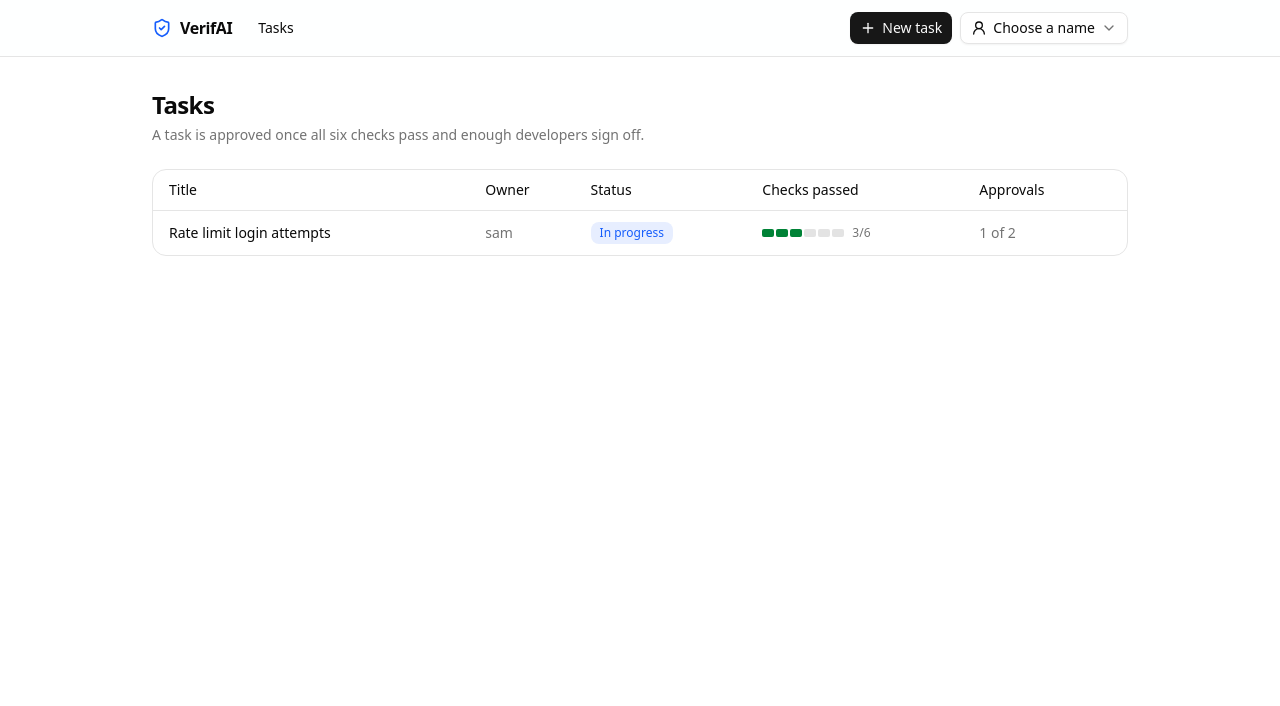
Test: TaskListPage › opens the details page when a task is clicked
Click the link "Rate limit login attempts" at (250, 232), box [169, 222, 331, 242]
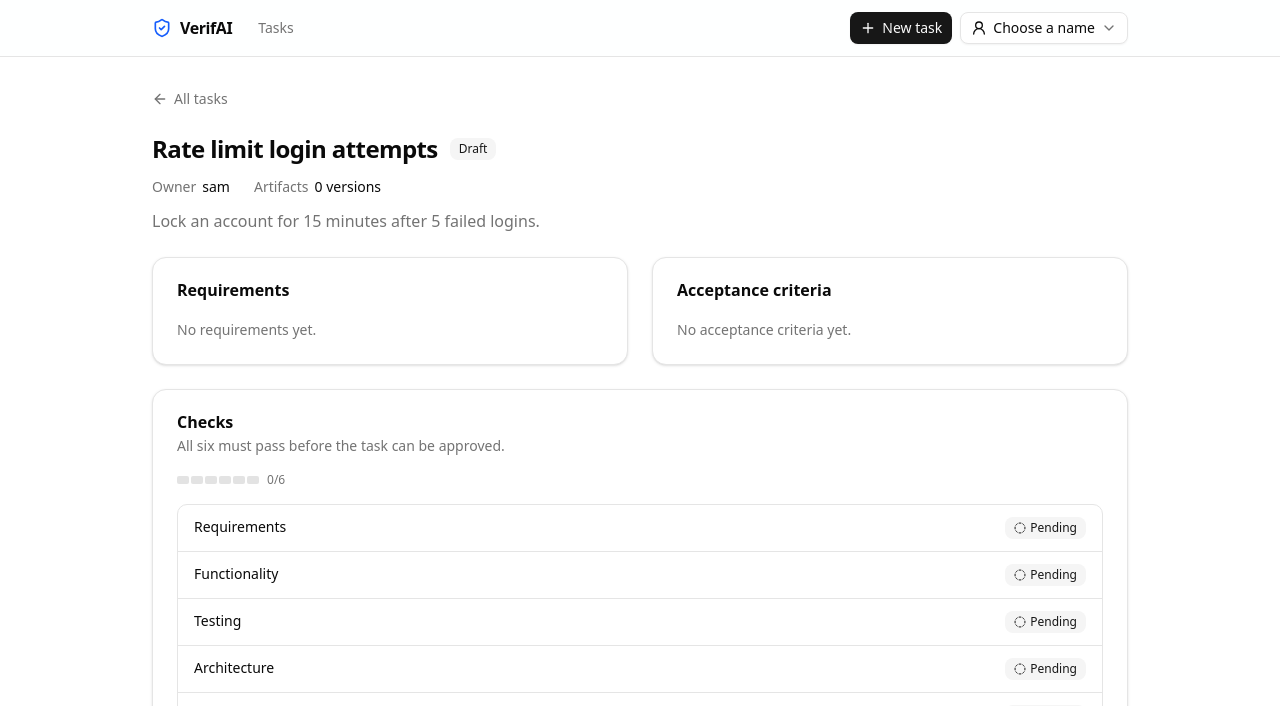
Check: the heading "Rate limit login attempts" is shown, box [152, 133, 438, 165]
